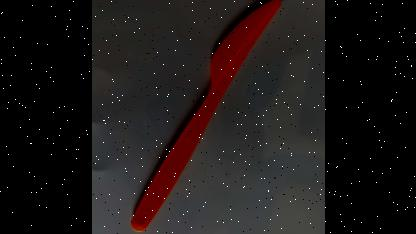Others: (128, 0, 282, 233)
